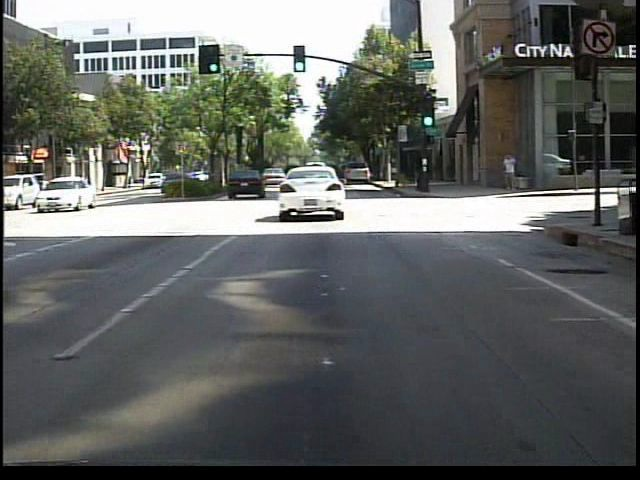person: (499, 152, 518, 196)
